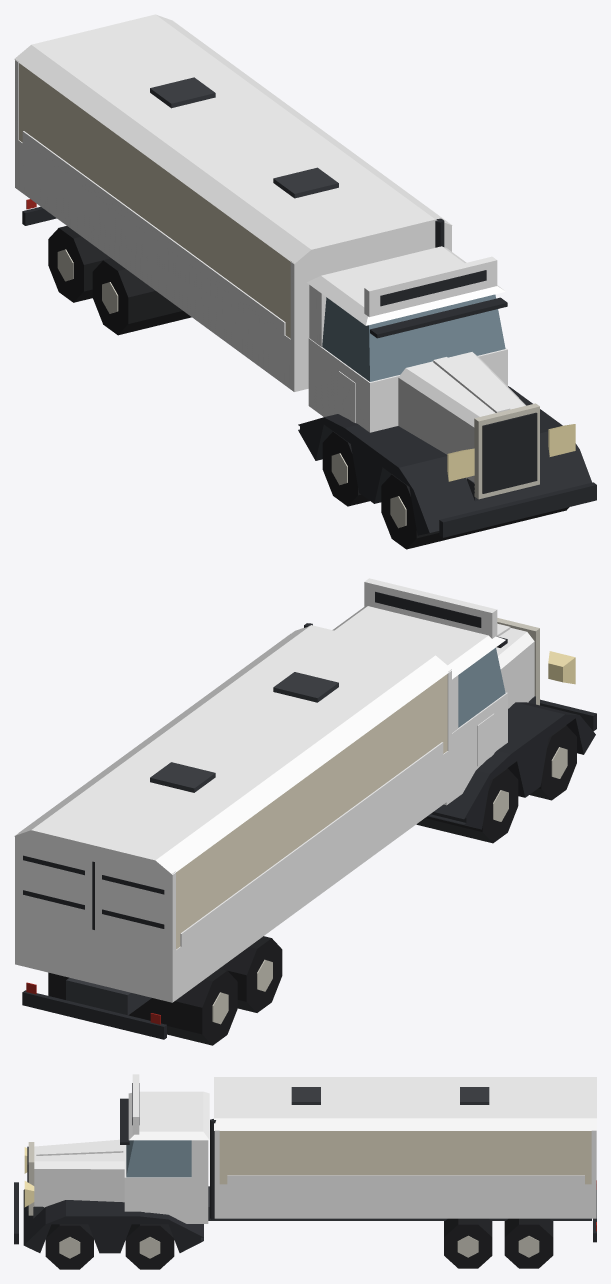
File: heavy_reefer.glb
3 renders of one model, top to bottom at view 1: azimuth 30°, elevation 25°; view 2: azimuth 150°, elevation 25°; view 3: azimuth 270°, elevation 25°, orthographic. The views are drawn at different scales.
Visible parts, largest first — view 1: model; view 2: model; view 3: model.
Part boxes in pixels (left/top/right/bottom): model: left=14, top=14, right=596, bottom=549; model: left=14, top=578, right=596, bottom=1045; model: left=14, top=1074, right=596, bottom=1269.
Size of the model in its own units: 2.7 by 3.37 by 12.
